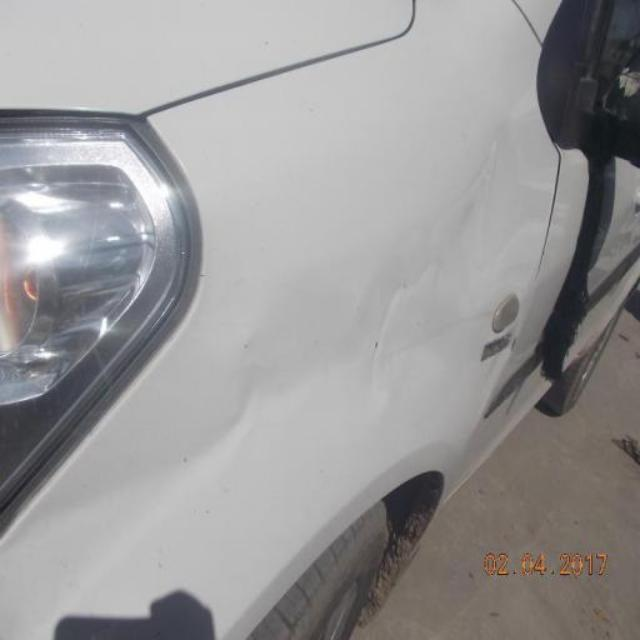crack: (533, 148, 617, 388)
dent: (224, 143, 499, 444)
